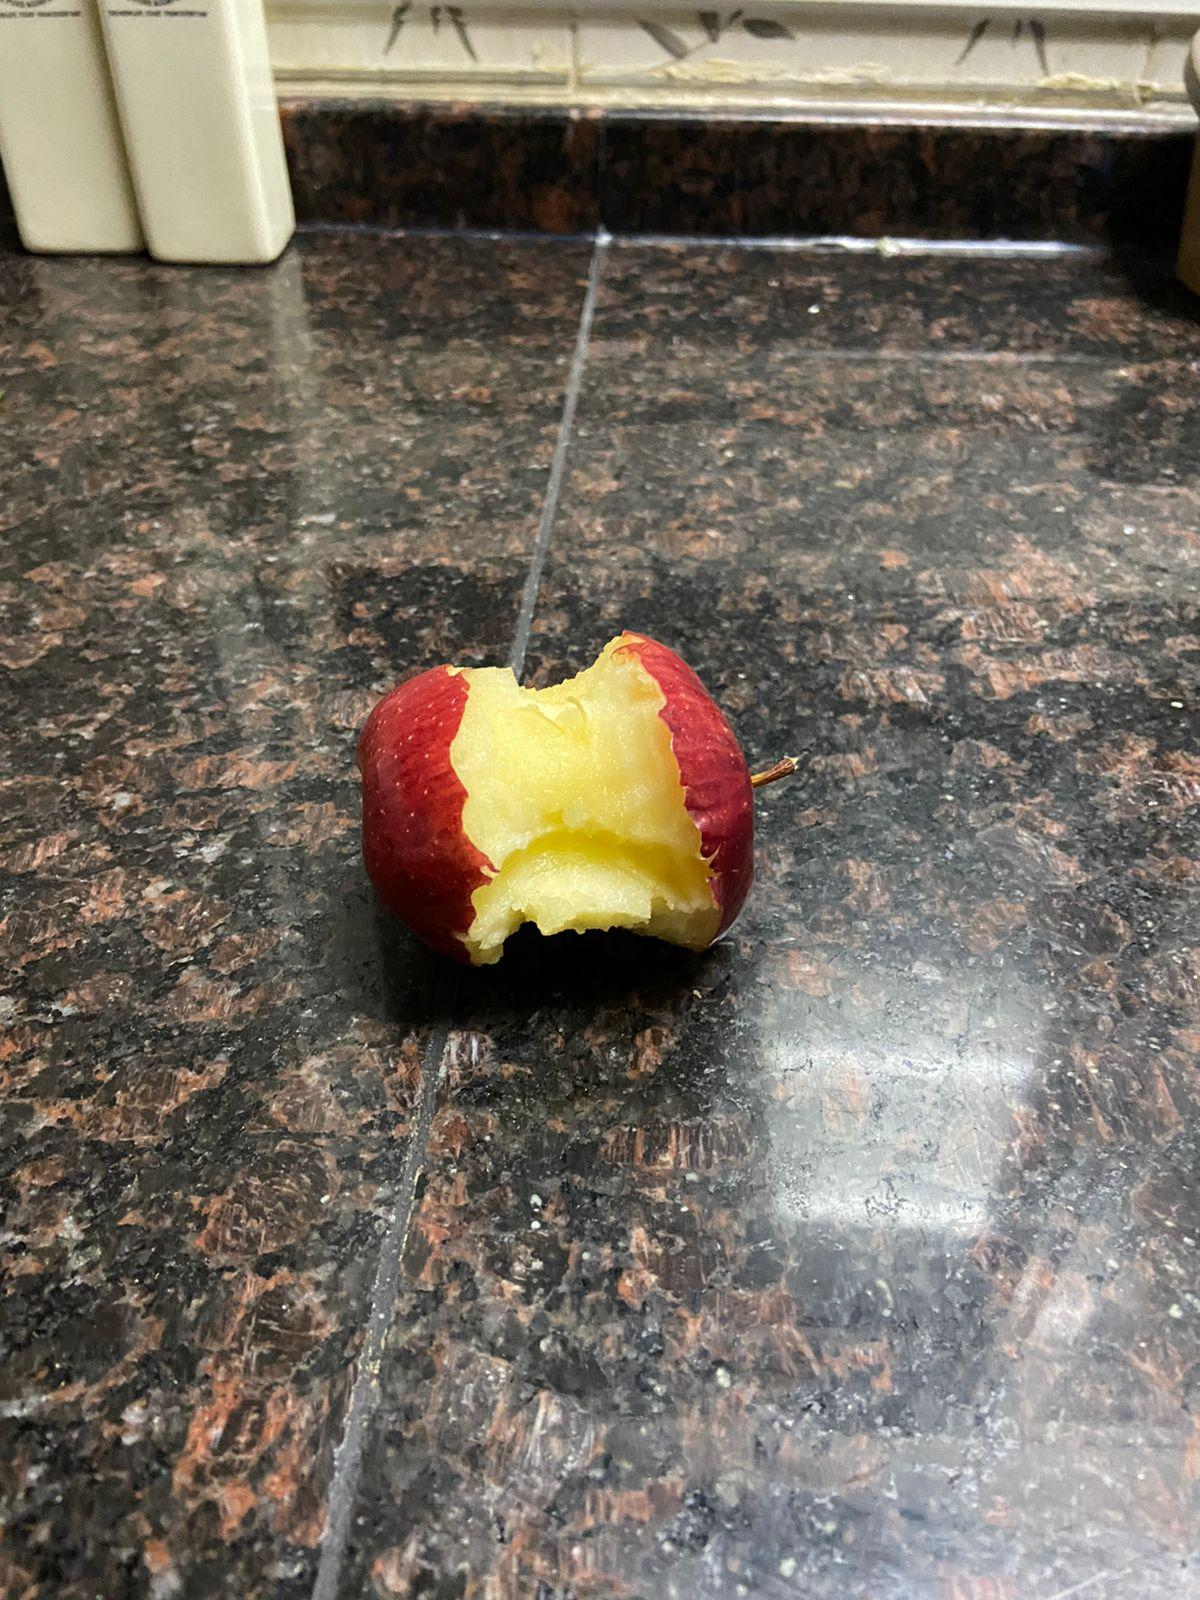Apple: (347, 621, 816, 971)
